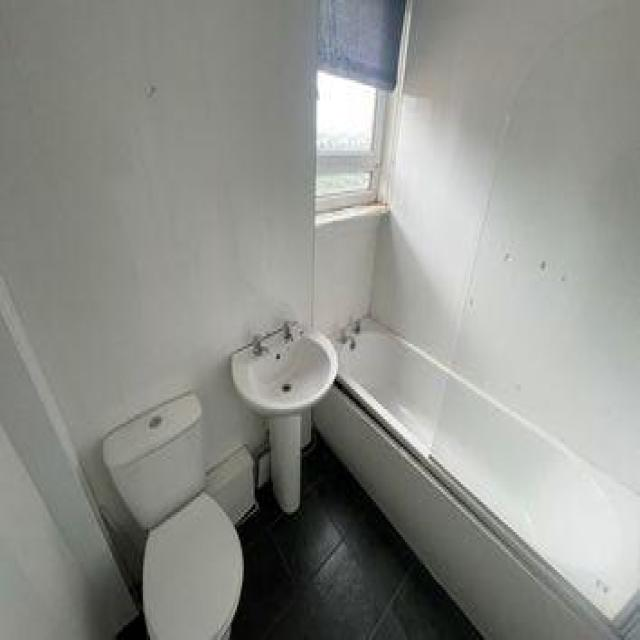Wall: (0, 0, 640, 636), (233, 436, 477, 640)
